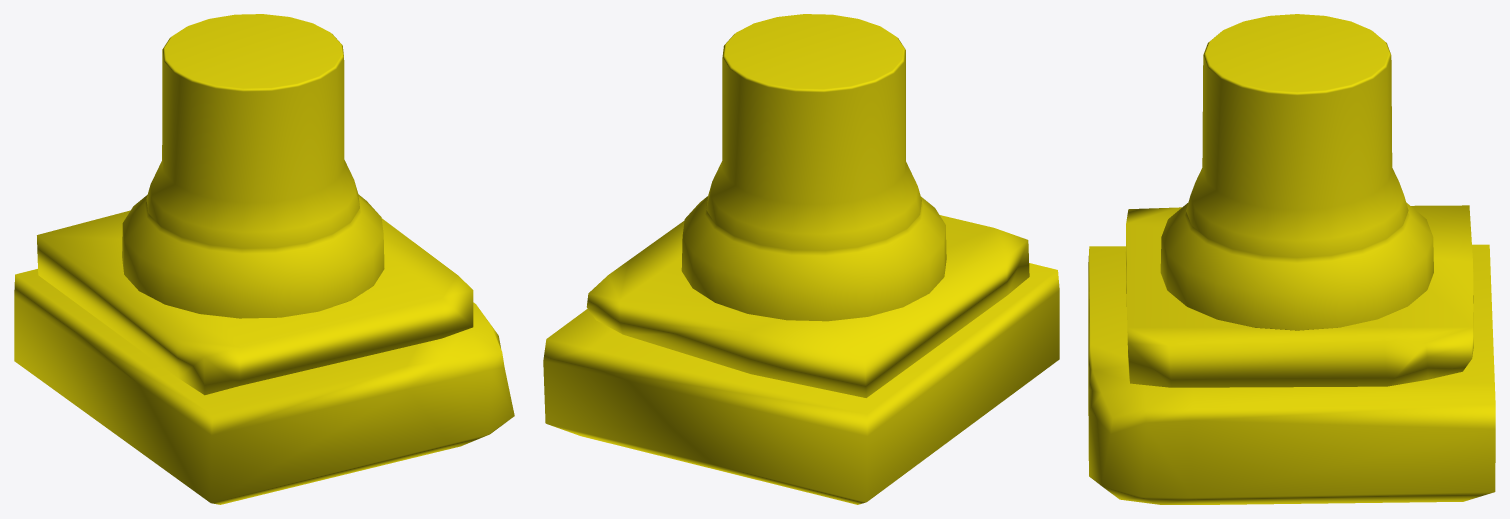
The model's file is Pillar_07_Lod0.fbx.
3 renders of one model, left to right at view 1: azimuth 30°, elevation 25°; view 2: azimuth 150°, elevation 25°; view 3: azimuth 270°, elevation 25°, orthographic. The views are drawn at different scales.
Visible parts, largest first — view 1: Pillar_07_Lod0; view 2: Pillar_07_Lod0; view 3: Pillar_07_Lod0.
Boxes of the visible parts, x1,y1,x2,y2 form: Pillar_07_Lod0: [14, 14, 514, 504]; Pillar_07_Lod0: [543, 14, 1059, 504]; Pillar_07_Lod0: [1088, 14, 1495, 504].
Size of the model in its own units: 563 by 602 by 594.
